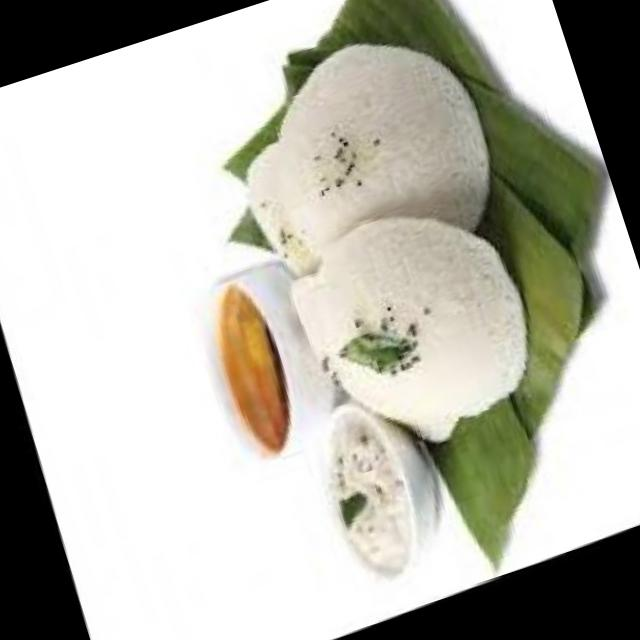idli: (240, 17, 516, 296), (290, 184, 554, 461), (276, 242, 473, 484), (228, 144, 329, 298)
